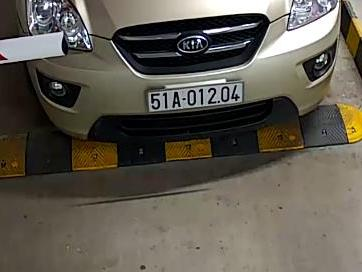car: (146, 82, 246, 114)
